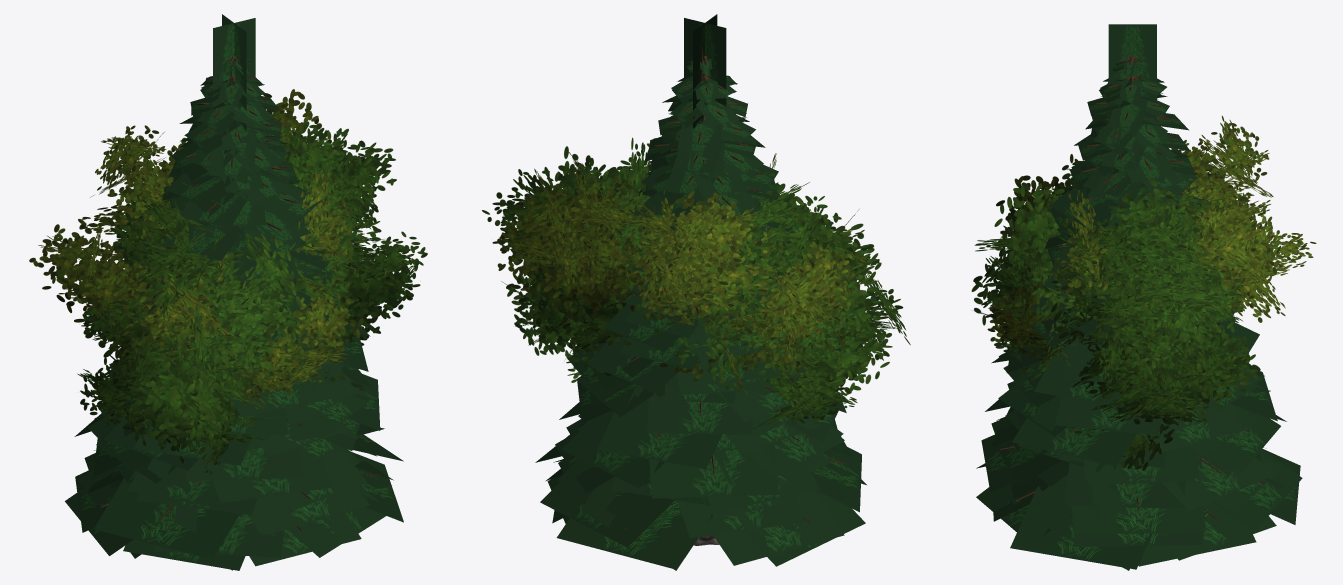
Rendered from environment.glb.
3 renders of one model, left to right at view 1: azimuth 30°, elevation 25°; view 2: azimuth 150°, elevation 25°; view 3: azimuth 270°, elevation 25°, orthographic.
Visible parts, largest first — view 1: pine_0_lod0, broadleaf_0_lod0, broadleaf_2_lod0, pine_1_lod0, broadleaf_1_lod0; view 2: pine_0_lod0, broadleaf_2_lod0, broadleaf_1_lod0, pine_1_lod0, broadleaf_0_lod0; view 3: pine_0_lod0, broadleaf_1_lod0, pine_1_lod0, broadleaf_2_lod0, broadleaf_0_lod0.
Part boxes in pixels (<box>): pine_0_lod0: <box>65,14,403,559</box>; broadleaf_0_lod0: <box>74,233,356,474</box>; broadleaf_2_lod0: <box>29,89,363,416</box>; pine_1_lod0: <box>75,41,403,570</box>; broadleaf_1_lod0: <box>110,121,427,388</box>; pine_0_lod0: <box>535,14,866,570</box>; broadleaf_2_lod0: <box>497,138,872,393</box>; broadleaf_1_lod0: <box>482,137,862,389</box>; pine_1_lod0: <box>545,46,845,565</box>; broadleaf_0_lod0: <box>634,153,910,429</box>; pine_0_lod0: <box>976,24,1302,566</box>; broadleaf_1_lod0: <box>1040,154,1260,470</box>; pine_1_lod0: <box>990,47,1282,570</box>; broadleaf_2_lod0: <box>974,115,1316,360</box>; broadleaf_0_lod0: <box>971,182,1101,389</box>.
Size of what is drawn, in the model's own units: 11.86 by 14.93 by 10.16.
7 materials, 7 textured.
